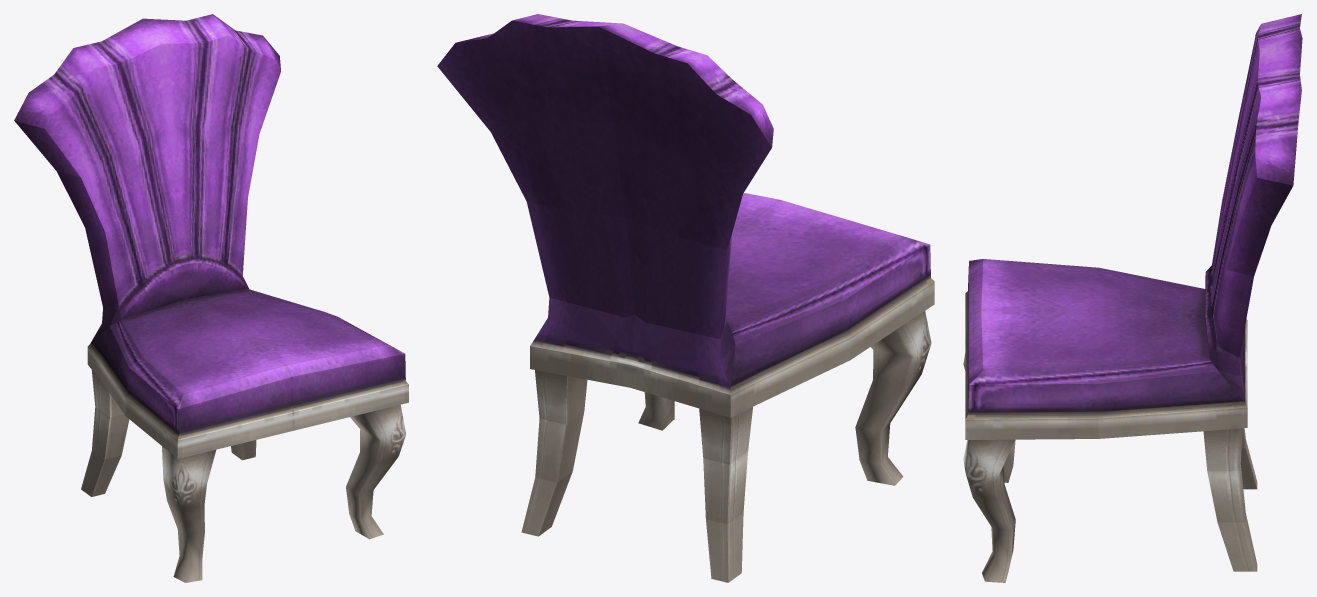
Rendered from furni_0201112_01.FBX.
3 views of the same model, side by side, from view 1: azimuth 30°, elevation 25°; view 2: azimuth 150°, elevation 25°; view 3: azimuth 270°, elevation 25° (orthographic). The views are drawn at different scales.
Parts seen in each view (by area): view 1: furni_0201112_01; view 2: furni_0201112_01; view 3: furni_0201112_01.
Boxes of the visible parts, x1,y1,x2,y2 form: furni_0201112_01: (14,14,408,582); furni_0201112_01: (437,14,934,582); furni_0201112_01: (963,14,1302,582).
Size of the model in its own units: 71.5 by 112 by 70.55.
1 material, 1 textured.
